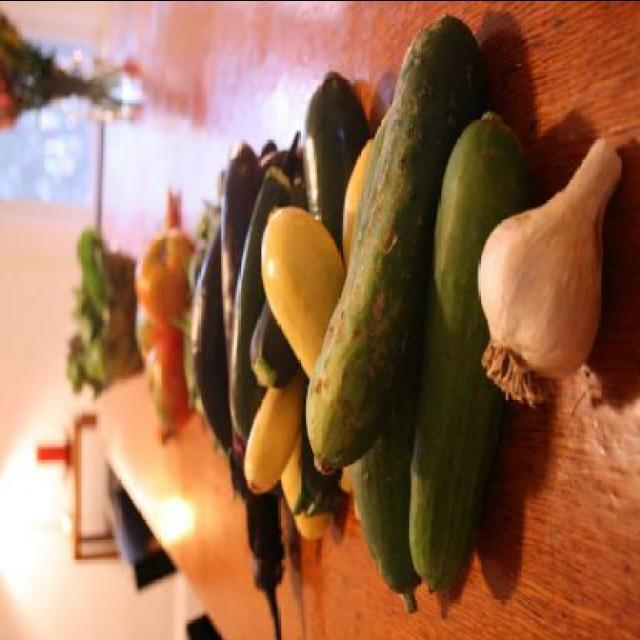Zucchini: (179, 54, 361, 626), (303, 9, 487, 476), (396, 100, 524, 602), (252, 197, 352, 395), (348, 389, 426, 613), (239, 380, 299, 500)
